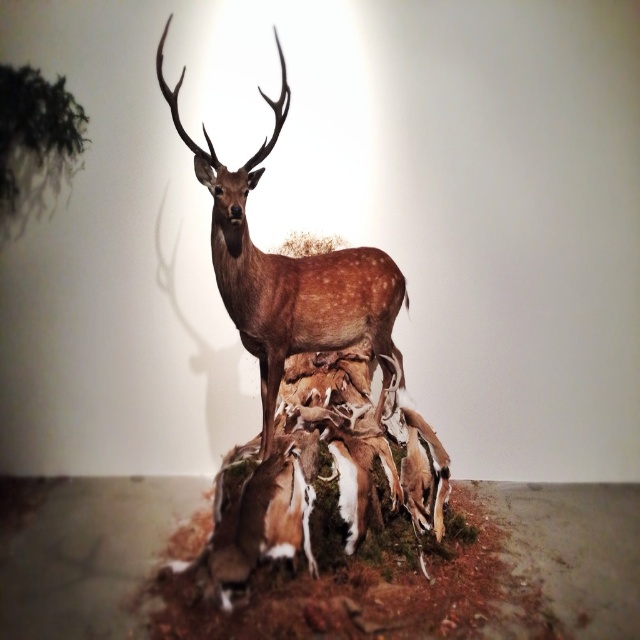Deer: (156, 12, 409, 463)
